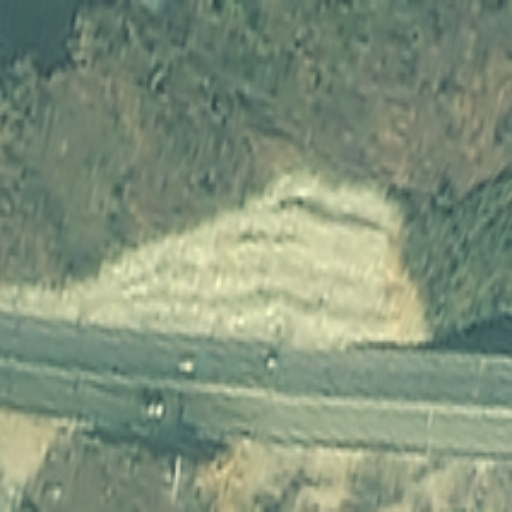landslide: (96, 177, 432, 344)
